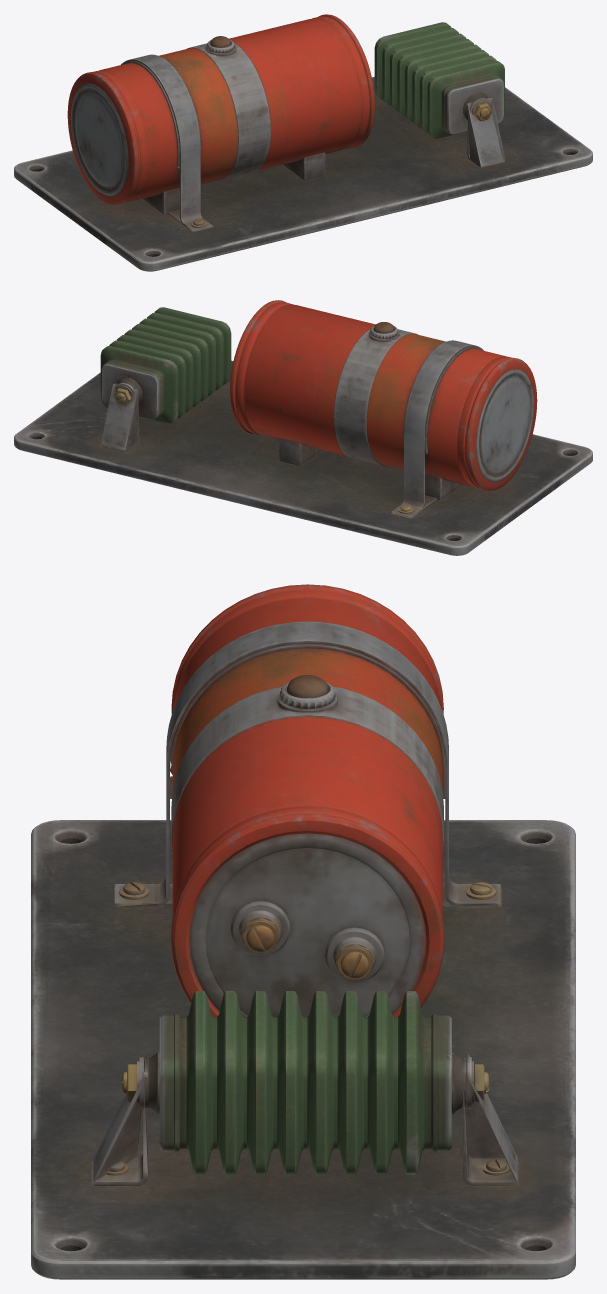
The model's file is condensatore.glb.
The picture shows the model from 3 angles, top to bottom: view 1: azimuth 30°, elevation 25°; view 2: azimuth 150°, elevation 25°; view 3: azimuth 270°, elevation 25°; orthographic projection. The views are drawn at different scales.
Parts seen in each view (by area): view 1: 01 • Blackened chassis plate, 02 • Rolled electrolytic can, 04 • Fluted vitreous resistor, Pressed end closure, Amber jacket band, 03 • Formed stainless hold-down, Drawn nickel ferrule • front, Folded resistor cleat • front, Neoprene saddle 2, Neoprene saddle 1, Captive black strap liner; view 2: 01 • Blackened chassis plate, 02 • Rolled electrolytic can, 04 • Fluted vitreous resistor, Pressed end closure, Amber jacket band, 03 • Formed stainless hold-down, Drawn nickel ferrule • rear, Folded resistor cleat • rear, Neoprene saddle 2, Neoprene saddle 1, Captive black strap liner; view 3: 01 • Blackened chassis plate, 02 • Rolled electrolytic can, 04 • Fluted vitreous resistor, Inset phenolic terminal seal, 03 • Formed stainless hold-down, Amber jacket band, Folded resistor cleat • rear, Folded resistor cleat • front, Drawn nickel ferrule • rear, Drawn nickel ferrule • front, Captive black strap liner, Terminal B • moulded boss (+1 smaller).
Part boxes in pixels (<box>): 01 • Blackened chassis plate: <box>14,76,592,271</box>; 02 • Rolled electrolytic can: <box>67,14,374,205</box>; 04 • Fluted vitreous resistor: <box>374,22,504,138</box>; Pressed end closure: <box>70,83,128,196</box>; Amber jacket band: <box>187,43,270,180</box>; 03 • Formed stainless hold-down: <box>121,54,213,231</box>; Drawn nickel ferrule • front: <box>443,75,503,134</box>; Folded resistor cleat • front: <box>467,97,505,167</box>; Neoprene saddle 2: <box>283,152,325,180</box>; Neoprene saddle 1: <box>142,187,179,214</box>; Captive black strap liner: <box>122,61,201,168</box>; 01 • Blackened chassis plate: <box>14,360,592,555</box>; 02 • Rolled electrolytic can: <box>230,300,537,491</box>; 04 • Fluted vitreous resistor: <box>100,307,231,423</box>; Pressed end closure: <box>476,369,533,481</box>; Amber jacket band: <box>334,329,418,466</box>; 03 • Formed stainless hold-down: <box>391,340,483,516</box>; Drawn nickel ferrule • rear: <box>102,360,162,419</box>; Folded resistor cleat • rear: <box>100,383,139,452</box>; Neoprene saddle 2: <box>279,438,321,465</box>; Neoprene saddle 1: <box>425,473,461,500</box>; Captive black strap liner: <box>403,346,482,453</box>; 01 • Blackened chassis plate: <box>31,820,575,1279</box>; 02 • Rolled electrolytic can: <box>170,584,444,1016</box>; 04 • Fluted vitreous resistor: <box>180,991,431,1174</box>; Inset phenolic terminal seal: <box>189,833,425,1016</box>; 03 • Formed stainless hold-down: <box>114,621,500,906</box>; Amber jacket band: <box>171,686,443,853</box>; Folded resistor cleat • rear: <box>459,1054,518,1185</box>; Folded resistor cleat • front: <box>93,1054,147,1185</box>; Drawn nickel ferrule • rear: <box>431,1014,451,1151</box>; Drawn nickel ferrule • front: <box>159,1014,179,1151</box>; Captive black strap liner: <box>169,644,445,798</box>; Terminal B • moulded boss: <box>325,927,384,982</box>.
Size of the model in its own units: 2 by 0.6358 by 1.04.
Materials: 1 (1 with a texture image).
